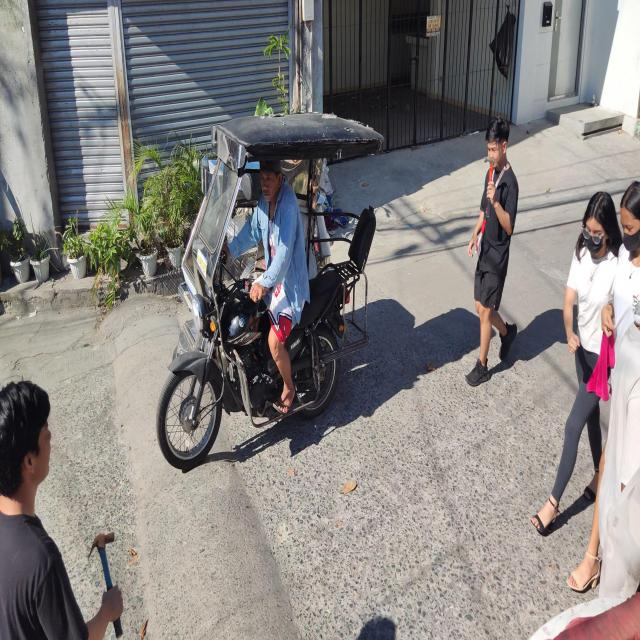hammer: (89, 531, 122, 638), (484, 156, 498, 218)
